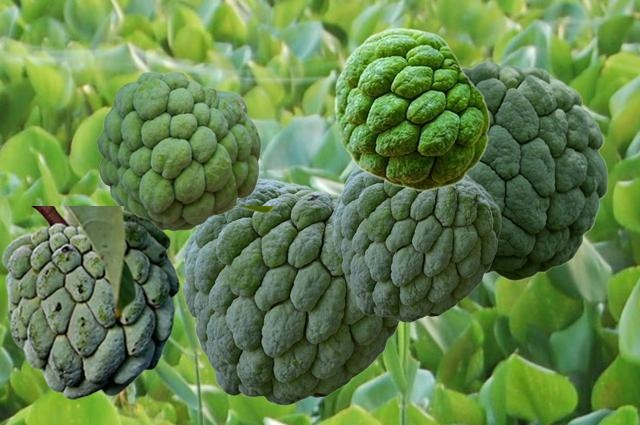atis: (1, 206, 273, 399), (182, 177, 399, 404), (463, 61, 607, 280), (96, 71, 260, 230), (332, 167, 500, 321), (335, 27, 489, 190)
